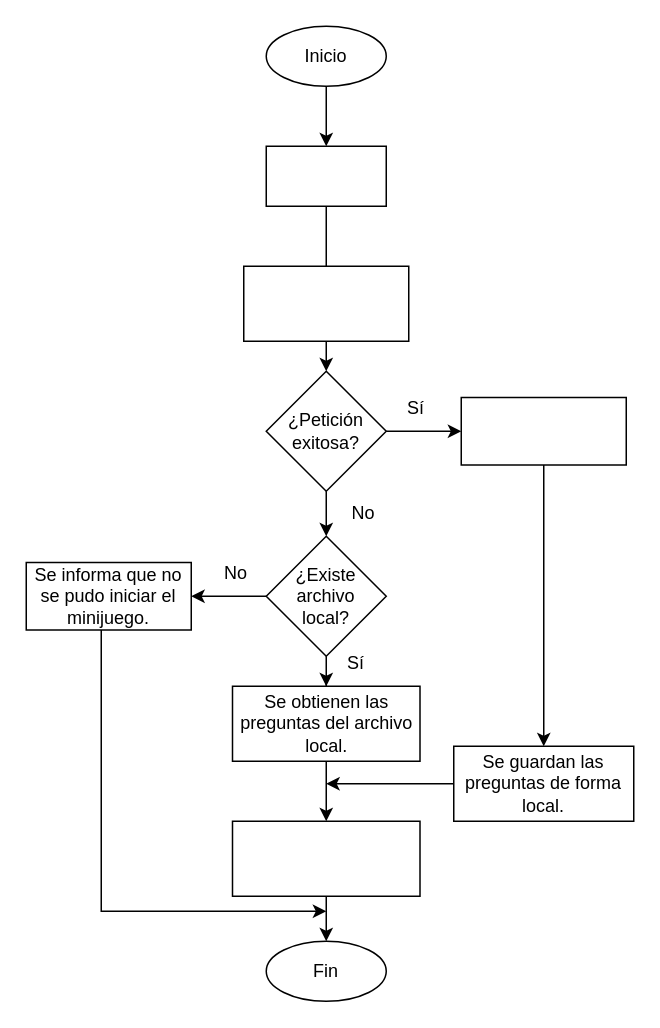
The diagram is 660 pixels wide and 1028 high, and some of its shapes have lost their labels. Each missing label, with the centre of its shape:
Se cargan las preguntas.: the point at 325,858
Se inicia el videojuego: the point at 325,175
Se procesa la respuesta.: the point at 543,430
Se realiza una petición al servidor de Supabase.: the point at 325,303
